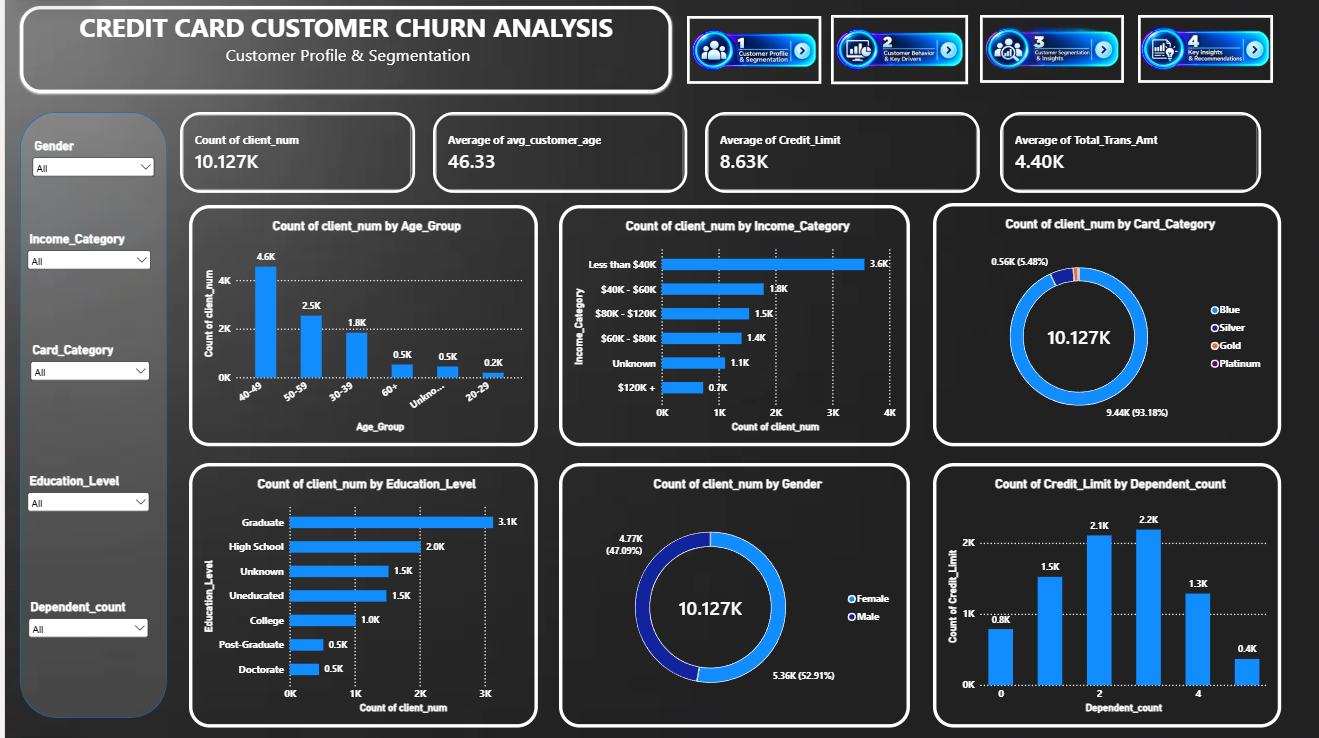

The page's visual inventory and layout, read from the dashboard file:
{"tool":"powerbi","page":{"name":"Page 1","canvas":[1920,1080],"ordinal":0},"visuals":[{"type":"textbox","box":[21.9,10.2,951.2,126.9],"z":0},{"type":"image","box":[995,24.8,195.5,99.2],"z":1000},{"type":"image","box":[1205.7,22.9,199.9,100.7],"z":2000},{"type":"image","box":[1422.9,22.9,210.1,99.2],"z":3000},{"type":"image","box":[1652.9,22.9,197,99.2],"z":4000},{"type":"shape","box":[21.9,164.9,214.5,884.1],"z":5000},{"type":"slicer","fields":{"Values":["banking_db credit_card_churn.Gender"]},"box":[35,202.8,188.2,159],"z":6000},{"type":"slicer","fields":{"Values":["banking_db credit_card_churn.Income_Category"]},"box":[27.7,338.5,189.7,148.8],"z":7000},{"type":"slicer","fields":{"Values":["banking_db credit_card_churn.Card_Category"]},"box":[32.1,500.4,183.8,176.5],"z":8000},{"type":"slicer","fields":{"Values":["banking_db credit_card_churn.Education_Level"]},"box":[27.7,691.6,188.2,159],"z":9000},{"type":"slicer","fields":{"Values":["banking_db credit_card_churn.Dependent_count"]},"box":[29.2,875.4,185.3,163.4],"z":10000},{"type":"cardVisual","fields":{"Data":["CountNonNull(banking_db credit_card_churn.client_num)"]},"box":[255.7,164.3,342.9,118.2],"z":11000},{"type":"cardVisual","fields":{"Data":["Avg(banking_db credit_card_churn.avg_customer_age)"]},"box":[624.3,164.3,370.6,118.2],"z":12000},{"type":"cardVisual","fields":{"Data":["Avg(banking_db credit_card_churn.Credit_Limit)"]},"box":[1021.4,164.3,401.2,118.2],"z":13000},{"type":"cardVisual","fields":{"Data":["Avg(banking_db credit_card_churn.Total_Trans_Amt)"]},"box":[1451.4,164.3,380.8,118.2],"z":14000},{"type":"clusteredColumnChart","fields":{"Category":["banking_db credit_card_churn.Age_Group"],"Y":["Count(banking_db credit_card_churn.client_num)"]},"box":[268.4,300.5,509.2,351.6],"z":15000},{"type":"barChart","fields":{"Category":["banking_db credit_card_churn.Income_Category"],"Y":["Count(banking_db credit_card_churn.client_num)"]},"box":[808.3,300.5,512.1,351.6],"z":16000},{"type":"donutChart","fields":{"Category":["banking_db credit_card_churn.Card_Category"],"Y":["Count(banking_db credit_card_churn.client_num)"]},"box":[1353.9,297.6,507.7,354.5],"z":17000},{"type":"barChart","fields":{"Category":["banking_db credit_card_churn.Education_Level"],"Y":["Count(banking_db credit_card_churn.client_num)"]},"box":[268.4,677,509,386],"z":18000},{"type":"donutChart","fields":{"Category":["banking_db credit_card_churn.Gender"],"Y":["Count(banking_db credit_card_churn.client_num)"]},"box":[808,677,512,386],"z":19000},{"type":"columnChart","fields":{"Category":["banking_db credit_card_churn.Dependent_count"],"Y":["Count(banking_db credit_card_churn.Credit_Limit)"]},"box":[1354,677,508,386],"z":20000}]}

Visuals, with their boxes in screenshot pixels (x1, y1, x2, y2), scaled from the page's 1920x1080 canvas onto the 1319x738 screenshot:
textbox: [left=15, top=7, right=668, bottom=94]
image: [left=684, top=17, right=818, bottom=85]
image: [left=828, top=16, right=966, bottom=84]
image: [left=978, top=16, right=1122, bottom=83]
image: [left=1136, top=16, right=1271, bottom=83]
shape: [left=15, top=113, right=162, bottom=717]
slicer - banking_db credit_card_churn.Gender: [left=24, top=139, right=153, bottom=247]
slicer - banking_db credit_card_churn.Income_Category: [left=19, top=231, right=149, bottom=333]
slicer - banking_db credit_card_churn.Card_Category: [left=22, top=342, right=148, bottom=463]
slicer - banking_db credit_card_churn.Education_Level: [left=19, top=473, right=148, bottom=581]
slicer - banking_db credit_card_churn.Dependent_count: [left=20, top=598, right=147, bottom=710]
cardVisual - CountNonNull(banking_db credit_card_churn.client_num): [left=176, top=112, right=411, bottom=193]
cardVisual - Avg(banking_db credit_card_churn.avg_customer_age): [left=429, top=112, right=683, bottom=193]
cardVisual - Avg(banking_db credit_card_churn.Credit_Limit): [left=702, top=112, right=977, bottom=193]
cardVisual - Avg(banking_db credit_card_churn.Total_Trans_Amt): [left=997, top=112, right=1259, bottom=193]
clusteredColumnChart - banking_db credit_card_churn.Age_Group x Count(banking_db credit_card_churn.client_num): [left=184, top=205, right=534, bottom=446]
barChart - banking_db credit_card_churn.Income_Category x Count(banking_db credit_card_churn.client_num): [left=555, top=205, right=907, bottom=446]
donutChart - banking_db credit_card_churn.Card_Category x Count(banking_db credit_card_churn.client_num): [left=930, top=203, right=1279, bottom=446]
barChart - banking_db credit_card_churn.Education_Level x Count(banking_db credit_card_churn.client_num): [left=184, top=463, right=534, bottom=726]
donutChart - banking_db credit_card_churn.Gender x Count(banking_db credit_card_churn.client_num): [left=555, top=463, right=907, bottom=726]
columnChart - banking_db credit_card_churn.Dependent_count x Count(banking_db credit_card_churn.Credit_Limit): [left=930, top=463, right=1279, bottom=726]
